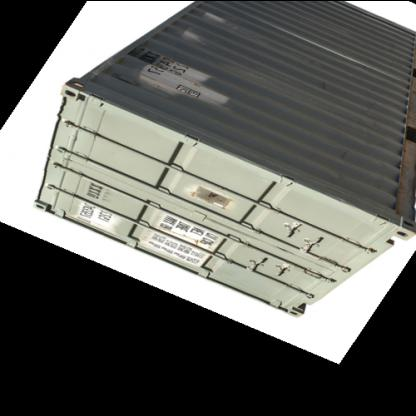Damage: (134, 48, 232, 112), (174, 182, 236, 224), (172, 21, 202, 41), (307, 71, 331, 95), (334, 143, 354, 162)
